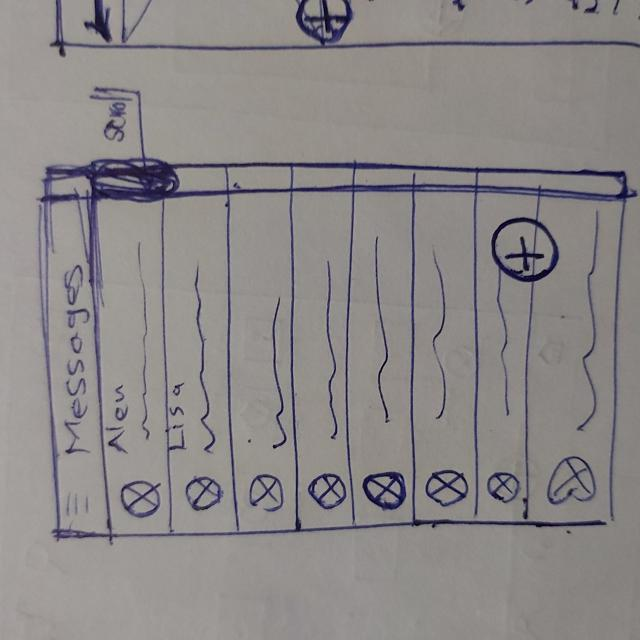AppBar: (43, 197, 110, 536)
DrawerToggleButton: (63, 491, 98, 519)
Fab: (493, 219, 558, 283)
Layout: (163, 196, 239, 535), (532, 193, 609, 524), (98, 199, 170, 532), (229, 189, 298, 531), (350, 189, 416, 524), (291, 194, 356, 528), (412, 189, 475, 527), (476, 185, 527, 519)
ListView: (98, 200, 609, 522)
MainLayout: (40, 160, 618, 530)
RoundedImage: (546, 456, 596, 505), (362, 470, 409, 513), (424, 469, 470, 509), (246, 472, 286, 513), (182, 475, 225, 513), (309, 472, 348, 513), (123, 480, 162, 519), (486, 470, 519, 504)
ScrollBar: (89, 160, 628, 201)
TextView: (60, 262, 92, 462), (368, 230, 398, 433), (190, 260, 221, 454), (128, 242, 156, 455), (575, 208, 599, 437), (426, 244, 455, 420), (318, 259, 342, 442), (263, 293, 290, 455), (493, 265, 517, 426), (110, 381, 130, 463), (169, 378, 190, 456)
VerticalListView: (97, 199, 608, 520)
